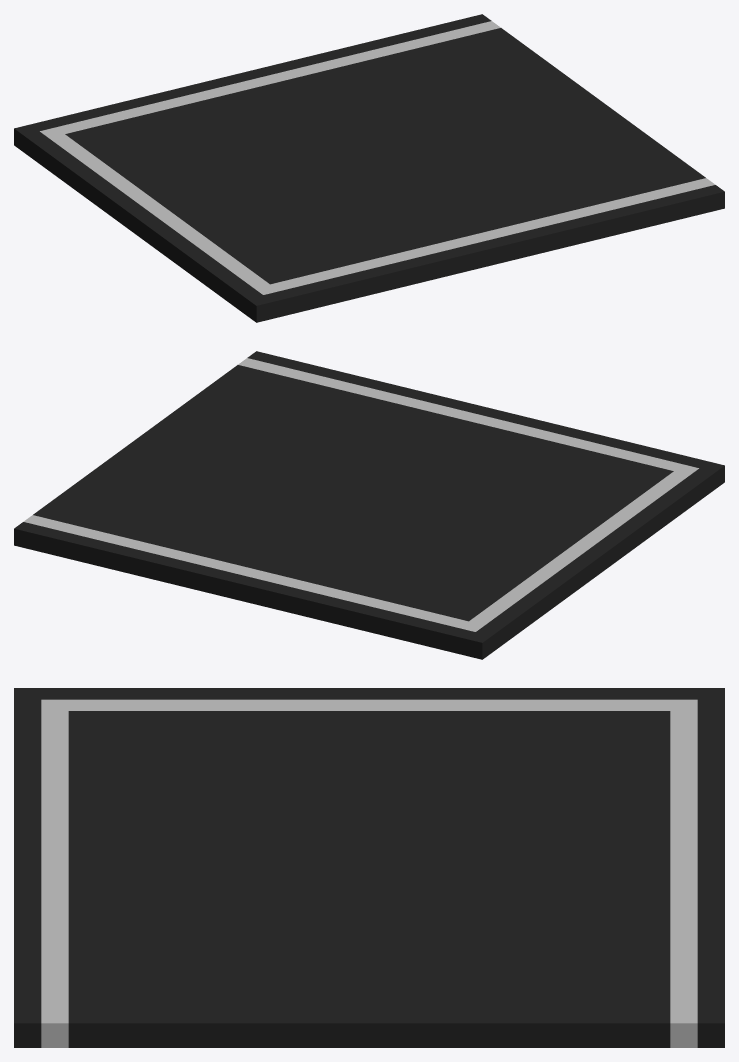
File: road-edgy-dead-end-2.gltf
3 renders of one model, top to bottom at view 1: azimuth 30°, elevation 25°; view 2: azimuth 150°, elevation 25°; view 3: azimuth 270°, elevation 25°, orthographic. The views are drawn at different scales.
Parts seen in each view (by area): view 1: road-edgy-dead-end-2_model; view 2: road-edgy-dead-end-2_model; view 3: road-edgy-dead-end-2_model.
Part boxes in pixels (x1,y1,x2,y2): road-edgy-dead-end-2_model: (14,14,724,322); road-edgy-dead-end-2_model: (14,351,724,659); road-edgy-dead-end-2_model: (14,688,724,1047).
Size of the model in its own units: 2.9 by 0.1 by 2.6.
Materials: 1 (1 with a texture image).
